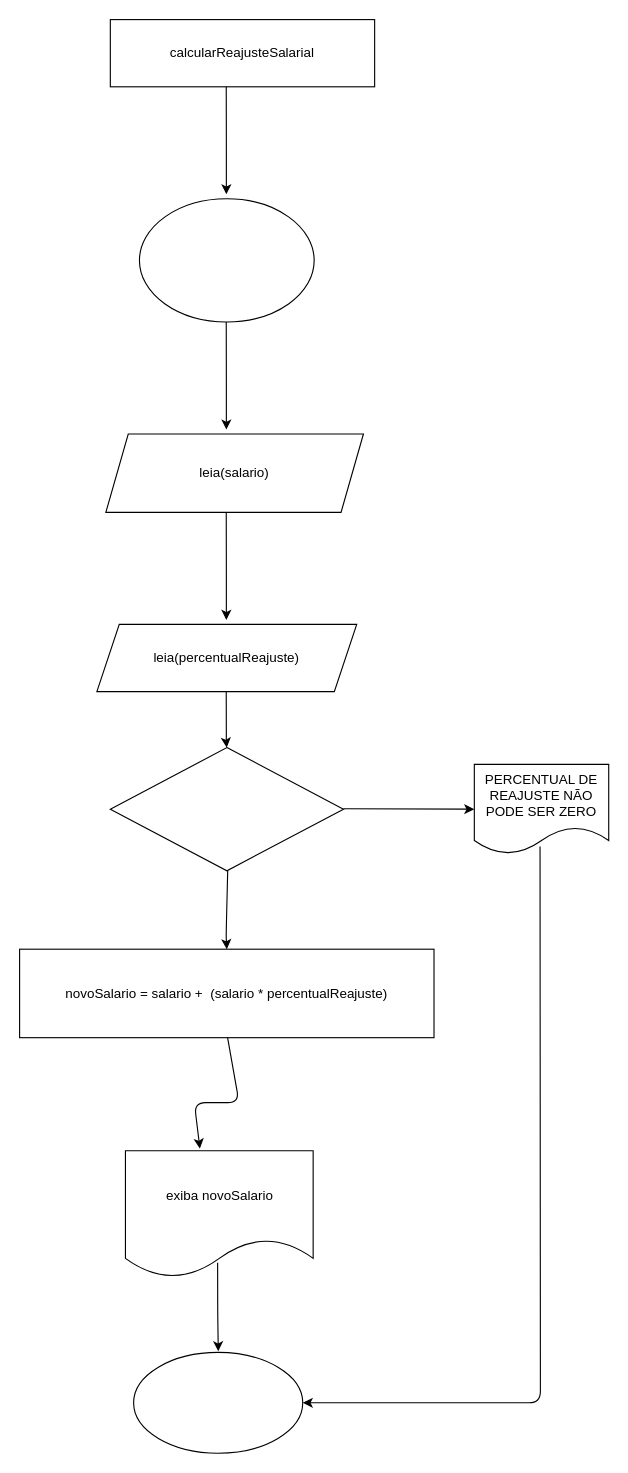
Some shapes in this 628 by 1473 pixel diagram are drawn without their labels. Each missing label, with the box of its shape:
fim: (132, 1351, 303, 1453)
Inicio: (138, 198, 314, 322)
percentualReajuste é igual a 0: (109, 746, 344, 871)
